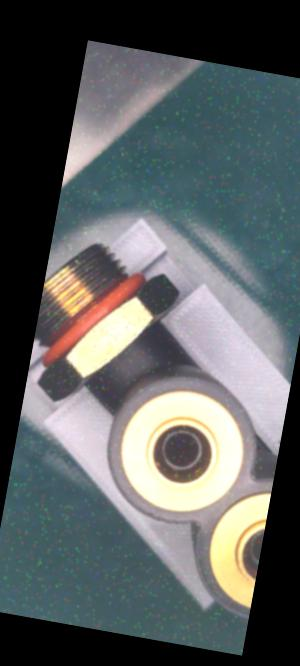joint line: (124, 366, 139, 381)
white mark: (106, 349, 126, 370)
